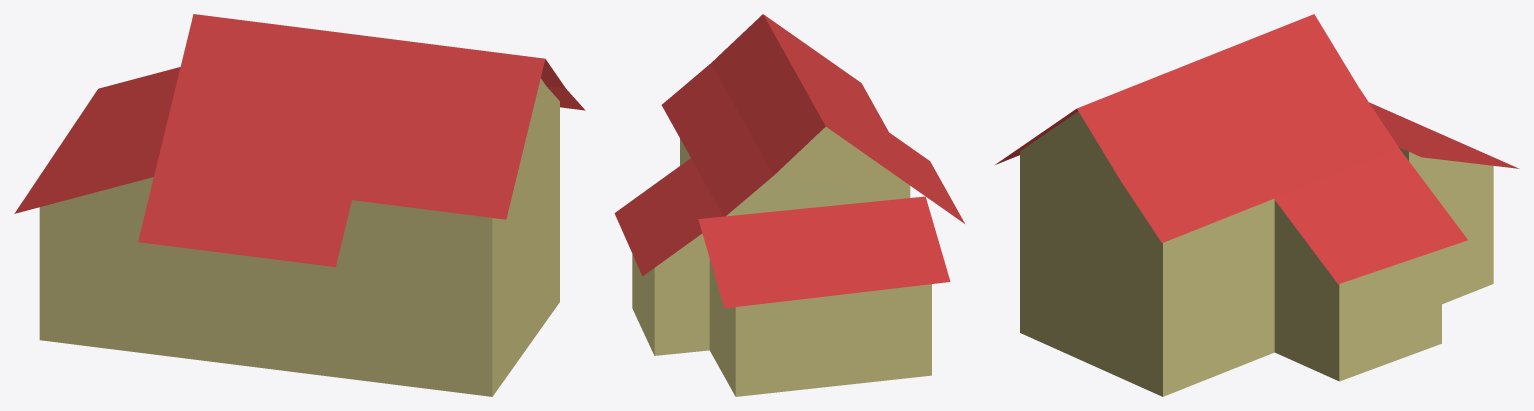
3 views of the same model, side by side, from view 1: azimuth 30°, elevation 25°; view 2: azimuth 150°, elevation 25°; view 3: azimuth 270°, elevation 25° (orthographic). The views are drawn at different scales.
Bounding box in the file's own units: 26.85 × 28.7 × 15.72.
